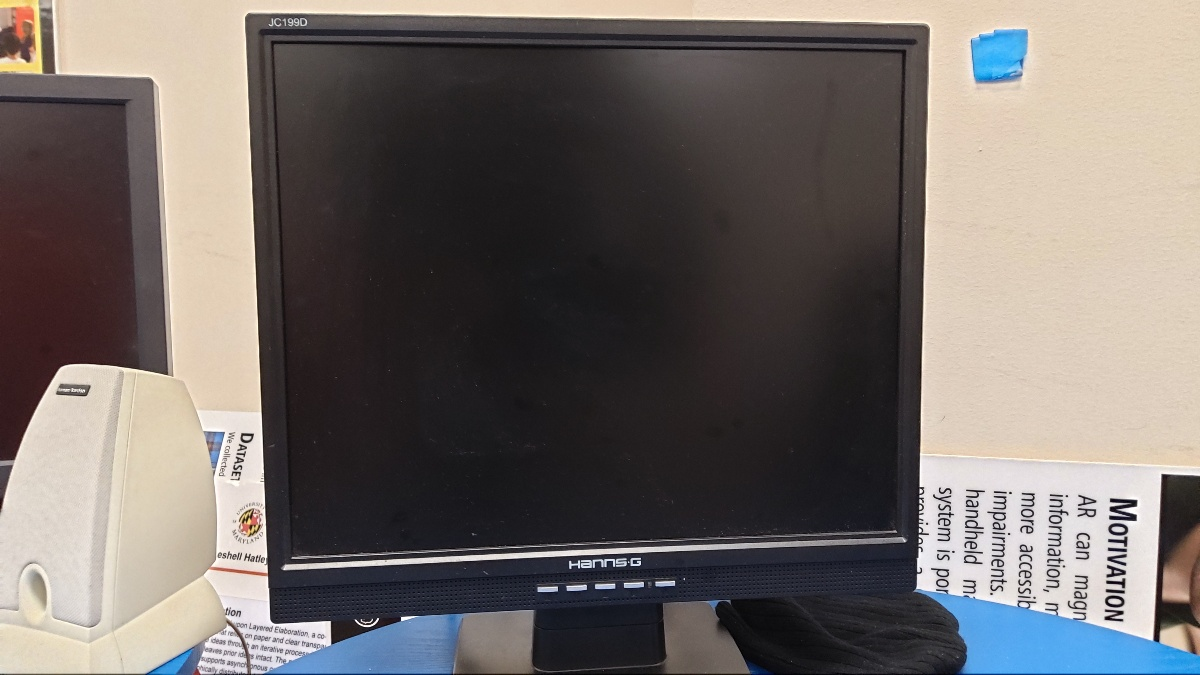monitor: (241, 2, 936, 636)
